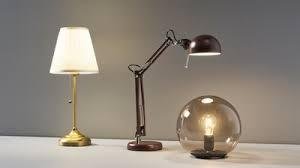light: (124, 25, 224, 153), (49, 22, 101, 160), (171, 86, 243, 167)
